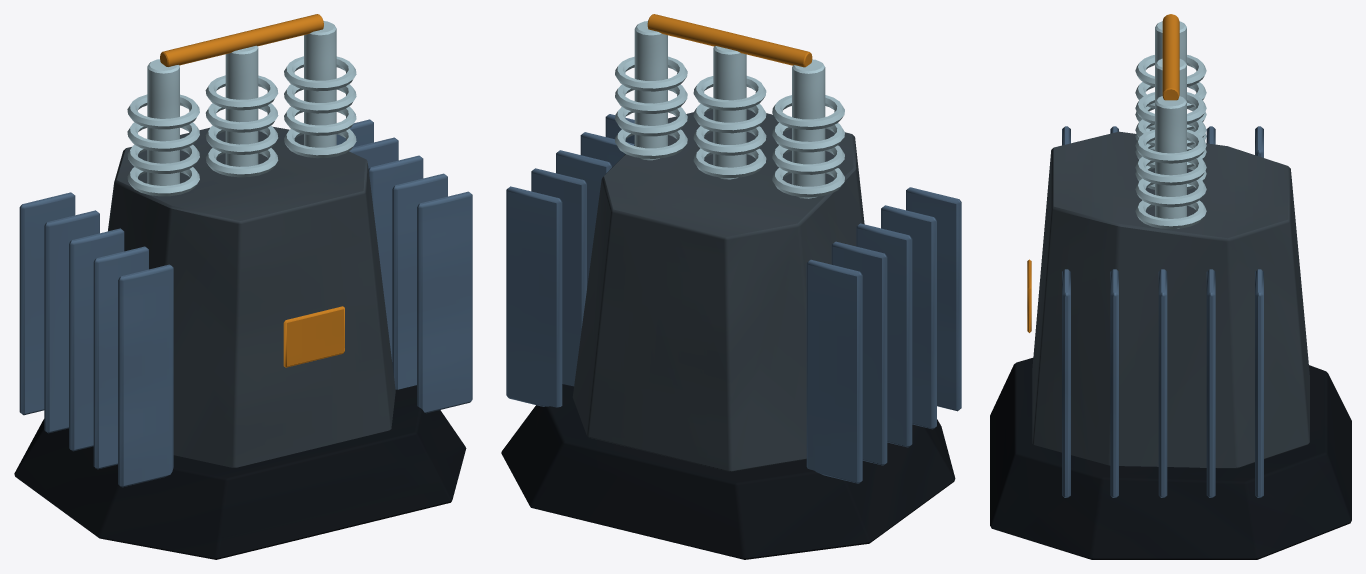
The model's file is Transformer.fbx.
3 views of the same model, side by side, from view 1: azimuth 30°, elevation 25°; view 2: azimuth 150°, elevation 25°; view 3: azimuth 270°, elevation 25° (orthographic). The views are drawn at different scales.
Parts seen in each view (by area): view 1: Transformer; view 2: Transformer; view 3: Transformer.
Boxes of the visible parts, left/top/right/bottom form: Transformer: left=14, top=14, right=472, bottom=559; Transformer: left=501, top=14, right=961, bottom=559; Transformer: left=990, top=14, right=1351, bottom=559.
Bounding box in the file's own units: 2.58 × 2.89 × 2.25.
